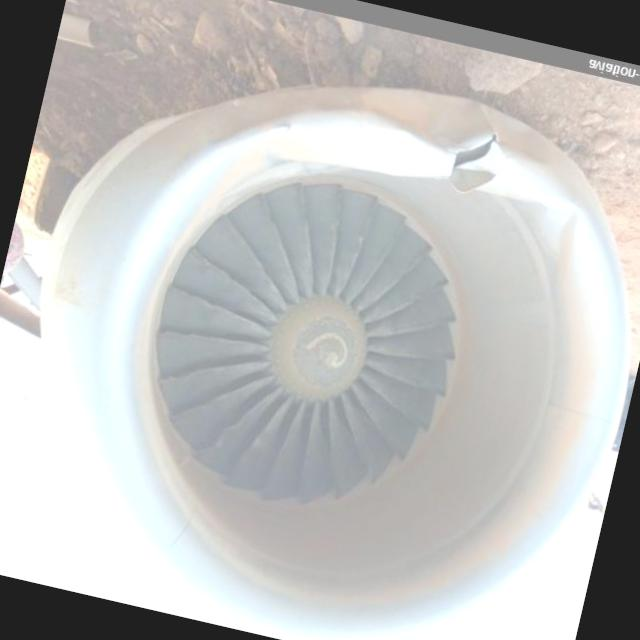crack: (446, 118, 500, 188)
dent: (268, 90, 452, 199), (531, 196, 590, 266)
